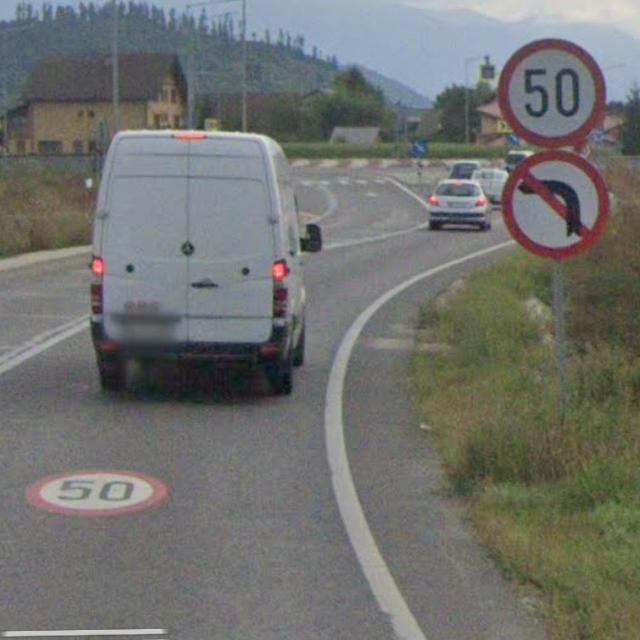forb_speed_over_50: (494, 37, 608, 149), (28, 466, 169, 519)
